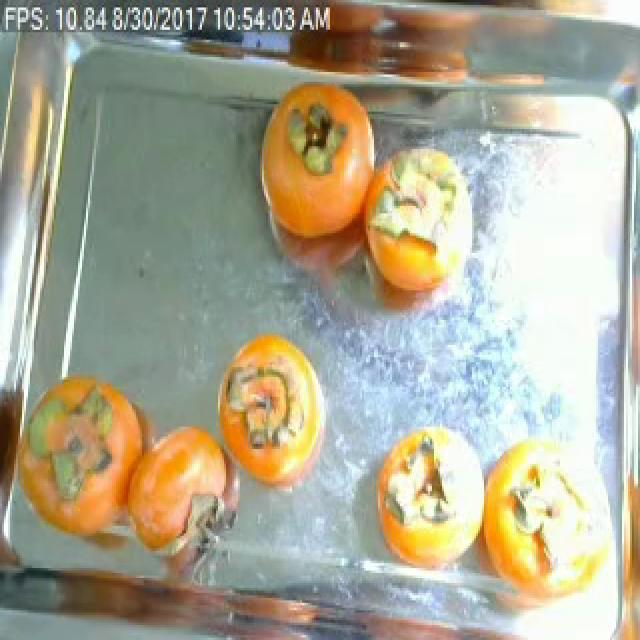Fruit: (244, 72, 378, 258), (208, 320, 332, 464), (356, 216, 454, 327)
